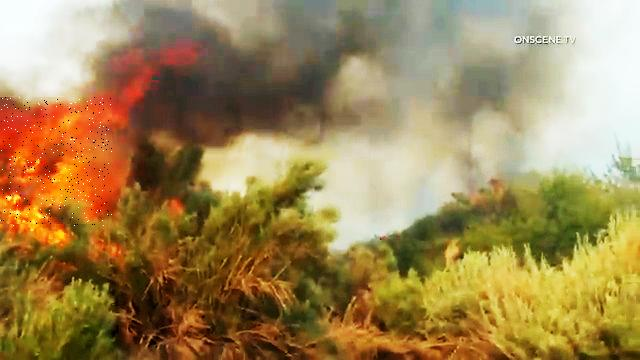fire: (0, 98, 112, 227)
